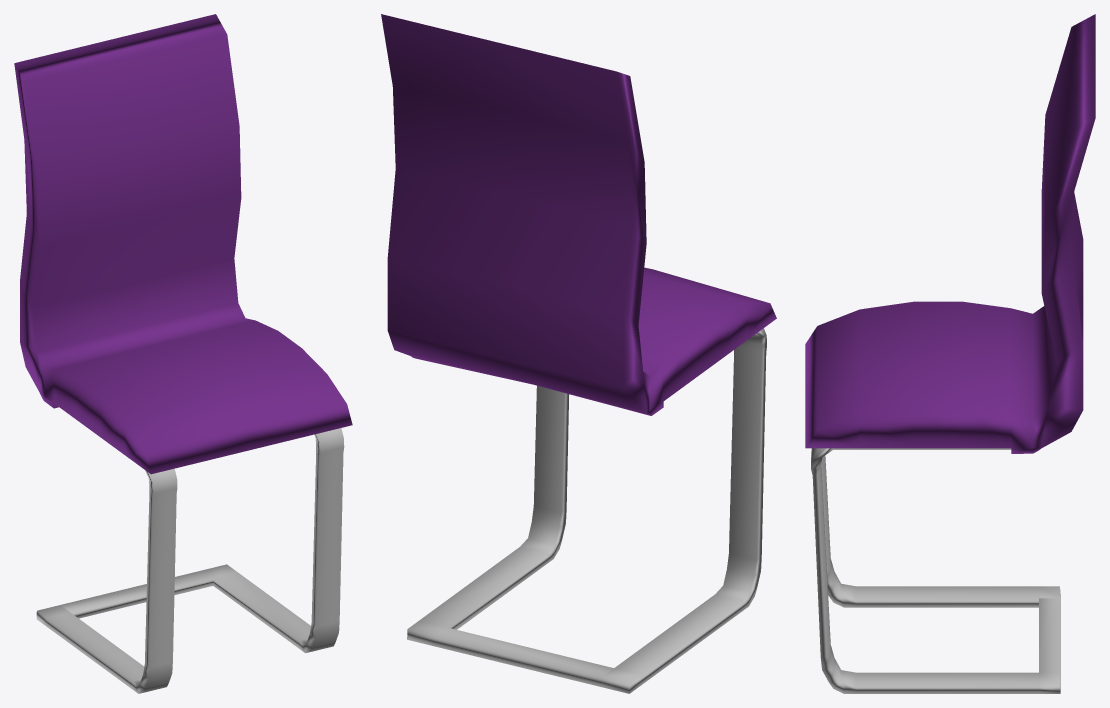
Rendered from cantileverchair_purple.fbx.
3 views of the same model, side by side, from view 1: azimuth 30°, elevation 25°; view 2: azimuth 150°, elevation 25°; view 3: azimuth 270°, elevation 25° (orthographic). The views are drawn at different scales.
Visible parts, largest first — view 1: cchair; view 2: cchair; view 3: cchair.
Part boxes in pixels (x1,y1,x2,y2): cchair: [14, 14, 352, 693]; cchair: [381, 14, 776, 693]; cchair: [805, 14, 1095, 693].
Size of the model in its own units: 1.81 by 4.68 by 2.13.
